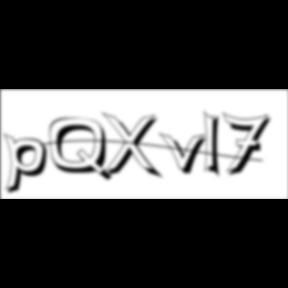7: (222, 111, 278, 179)
Q: (50, 117, 116, 184)
X: (101, 112, 165, 182)
l: (204, 108, 226, 182)
p: (4, 132, 54, 198)
v: (160, 131, 214, 177)
